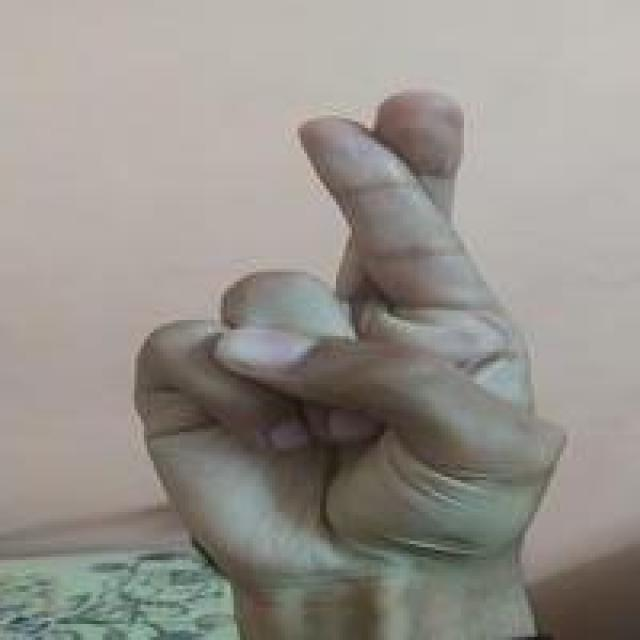R: (128, 85, 576, 571)
